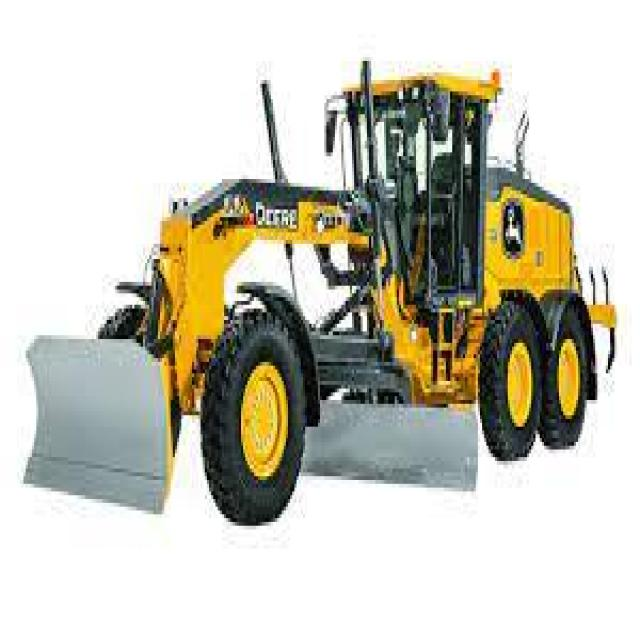buldozerpayloadergrader: (17, 42, 638, 560)
